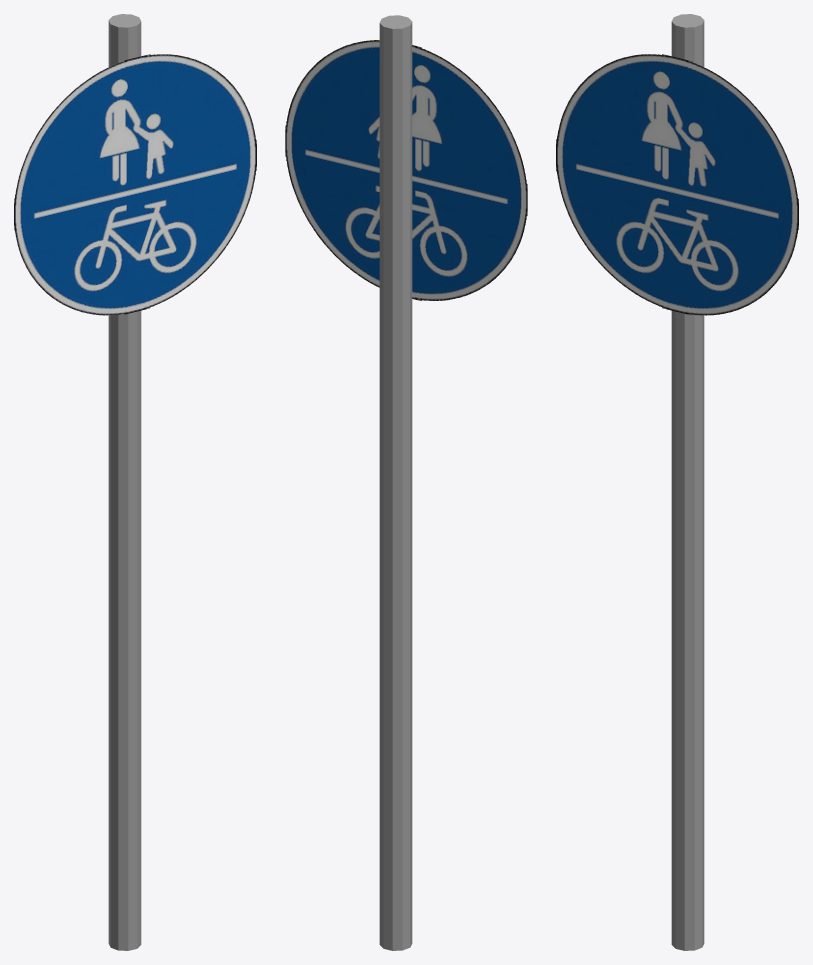
The model's file is FZ_Zonesign 1.fbx.
3 views of the same model, side by side, from view 1: azimuth 30°, elevation 25°; view 2: azimuth 150°, elevation 25°; view 3: azimuth 330°, elevation 25° (orthographic).
Visible parts, largest first — view 1: pPlane1, pCylinder1; view 2: pPlane1, pCylinder1; view 3: pPlane1, pCylinder1.
Part boxes in pixels (<box>): pPlane1: <box>14,54,256,315</box>; pCylinder1: <box>108,14,141,950</box>; pPlane1: <box>285,40,527,300</box>; pCylinder1: <box>379,15,412,950</box>; pPlane1: <box>556,54,798,315</box>; pCylinder1: <box>671,14,704,950</box>.
Bounding box in the file's own units: 1.14 × 4.14 × 0.1496.
2 materials, 1 textured.
